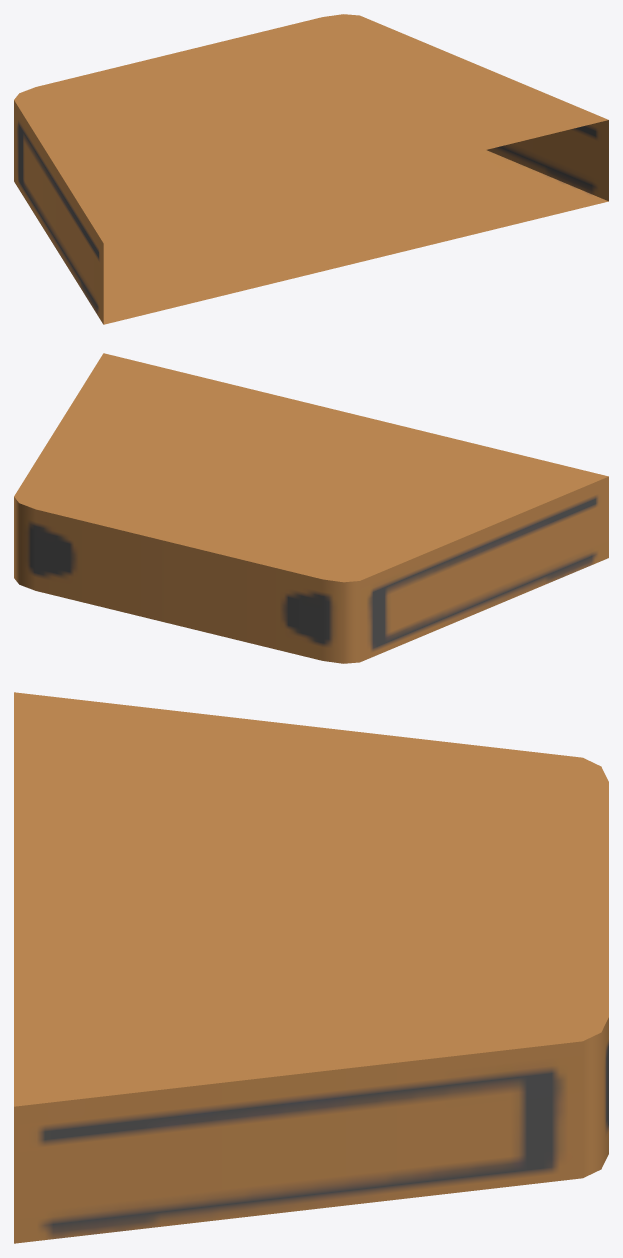
The model's file is Wall_Ornament__7.fbx.
3 renders of one model, top to bottom at view 1: azimuth 30°, elevation 25°; view 2: azimuth 150°, elevation 25°; view 3: azimuth 270°, elevation 25°, orthographic. The views are drawn at different scales.
Parts seen in each view (by area): view 1: Wall_Ornament; view 2: Wall_Ornament; view 3: Wall_Ornament.
Boxes of the visible parts, left/top/right/bottom form: Wall_Ornament: left=14, top=14, right=608, bottom=324; Wall_Ornament: left=14, top=353, right=608, bottom=663; Wall_Ornament: left=14, top=692, right=608, bottom=1243.
Bounding box in the file's own units: 0.7662 × 0.1181 × 0.4649.
Materials: 1 (1 with a texture image).
